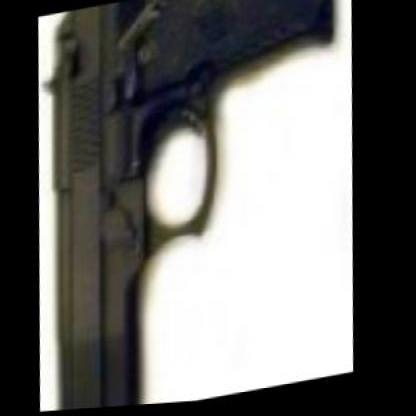pistol: (19, 0, 358, 412)
